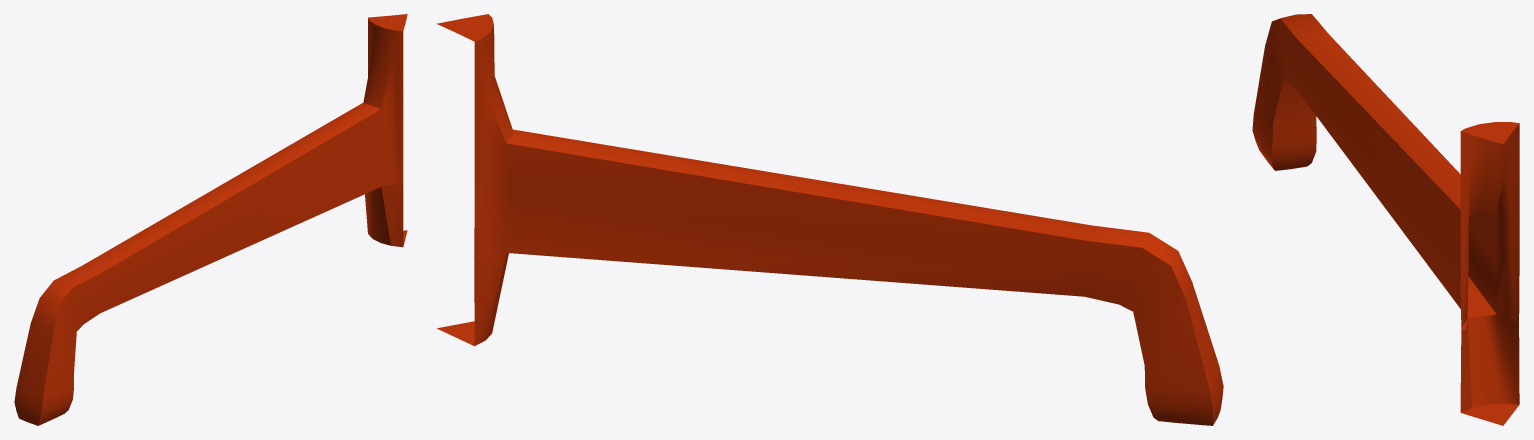
File: original-4.obj
3 renders of one model, left to right at view 1: azimuth 30°, elevation 25°; view 2: azimuth 150°, elevation 25°; view 3: azimuth 270°, elevation 25°, orthographic. The views are drawn at different scales.
Parts seen in each view (by area): view 1: Group4/mesh16/mesh16-geometry#mesh16-geometry; view 2: Group4/mesh16/mesh16-geometry#mesh16-geometry; view 3: Group4/mesh16/mesh16-geometry#mesh16-geometry.
Part boxes in pixels (left/top/right/bottom): Group4/mesh16/mesh16-geometry#mesh16-geometry: left=14, top=14, right=407, bottom=425; Group4/mesh16/mesh16-geometry#mesh16-geometry: left=436, top=14, right=1223, bottom=425; Group4/mesh16/mesh16-geometry#mesh16-geometry: left=1252, top=14, right=1519, bottom=425.
Size of the model in its own units: 0.5392 by 0.2519 by 0.2028.
